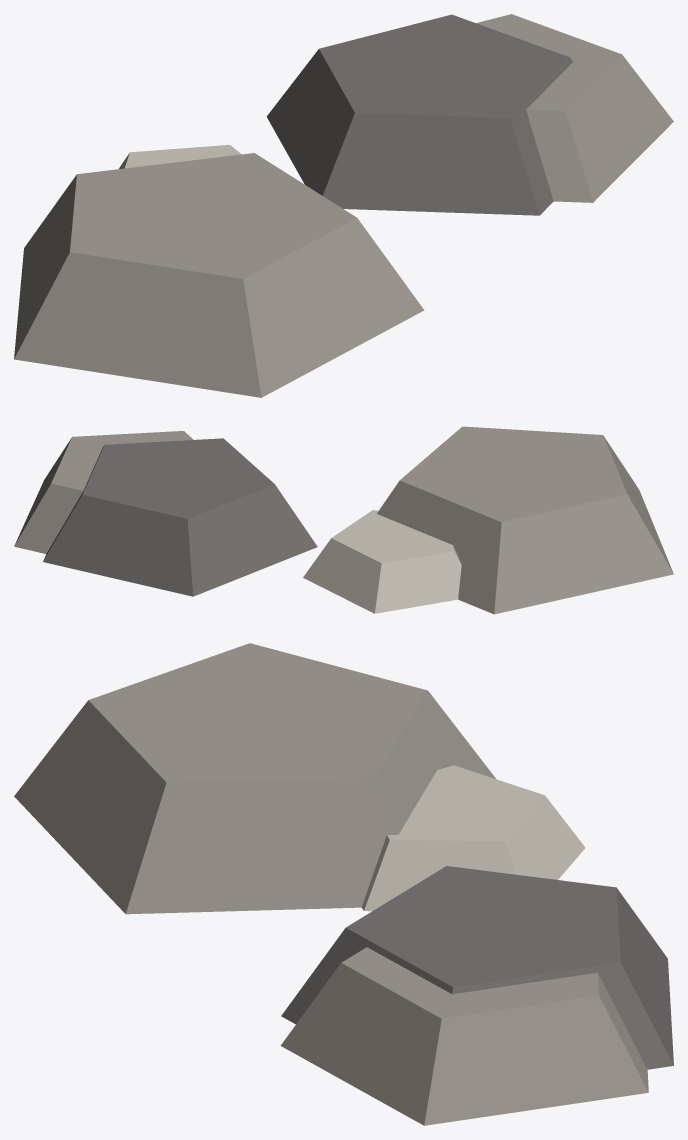
File: D_MedPebbles.fbx
3 renders of one model, top to bottom at view 1: azimuth 30°, elevation 25°; view 2: azimuth 150°, elevation 25°; view 3: azimuth 270°, elevation 25°, orthographic. The views are drawn at different scales.
Visible parts, largest first — view 1: M_Pebbles; view 2: M_Pebbles; view 3: M_Pebbles.
Boxes of the visible parts, bbox=[...] form: M_Pebbles: bbox=[14, 14, 673, 397]; M_Pebbles: bbox=[14, 426, 673, 614]; M_Pebbles: bbox=[14, 643, 673, 1125].
Size of the model in its own units: 0.5402 by 0.0639 by 0.3668.
Materials: 1 (1 with a texture image).
